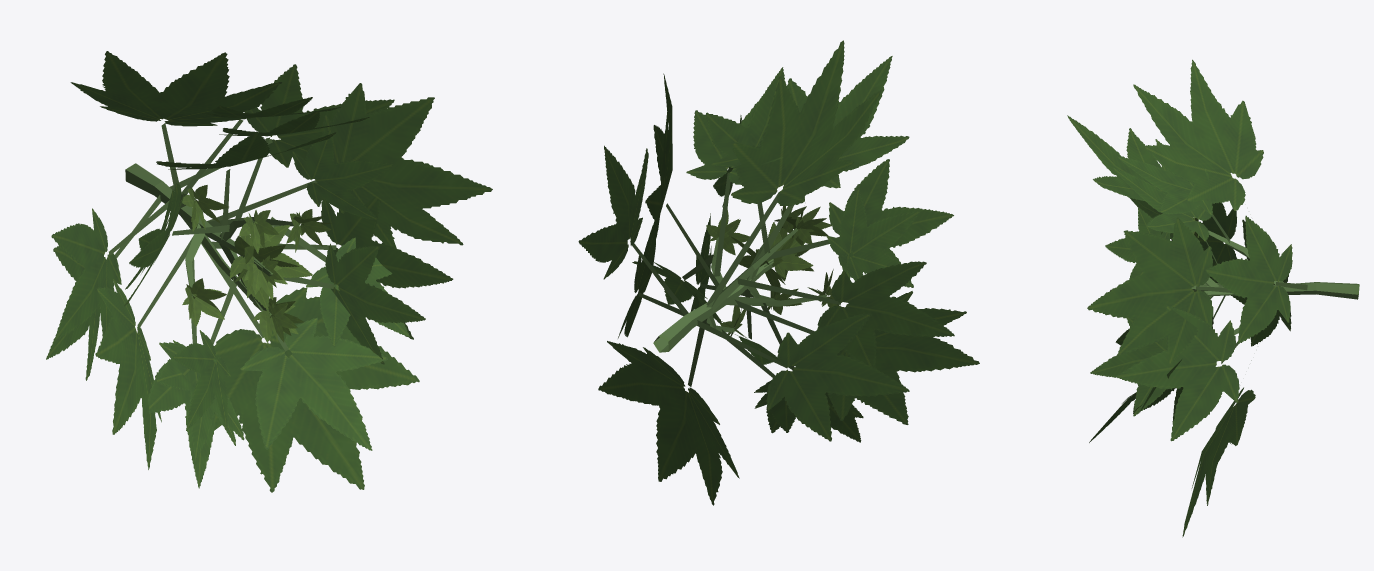
File: p_kush_vegetative_c0_cards.obj
3 renders of one model, left to right at view 1: azimuth 30°, elevation 25°; view 2: azimuth 150°, elevation 25°; view 3: azimuth 270°, elevation 25°, orthographic. The views are drawn at different scales.
Size of the model in its own units: 1.08 by 1.36 by 0.817.
1 material, 1 textured.
